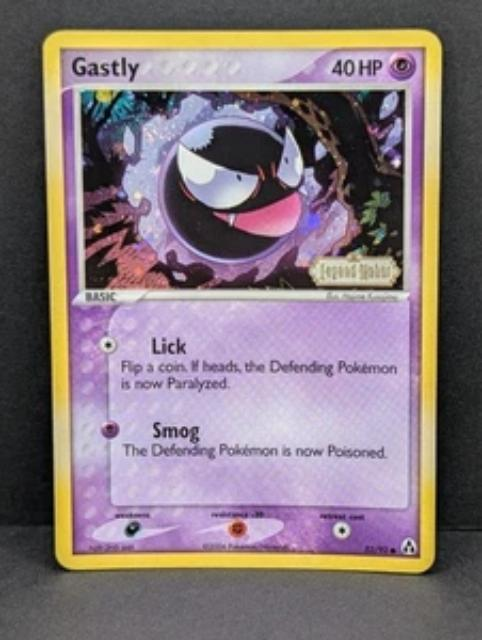Card: (37, 20, 448, 584)
Name: (65, 53, 147, 86)
